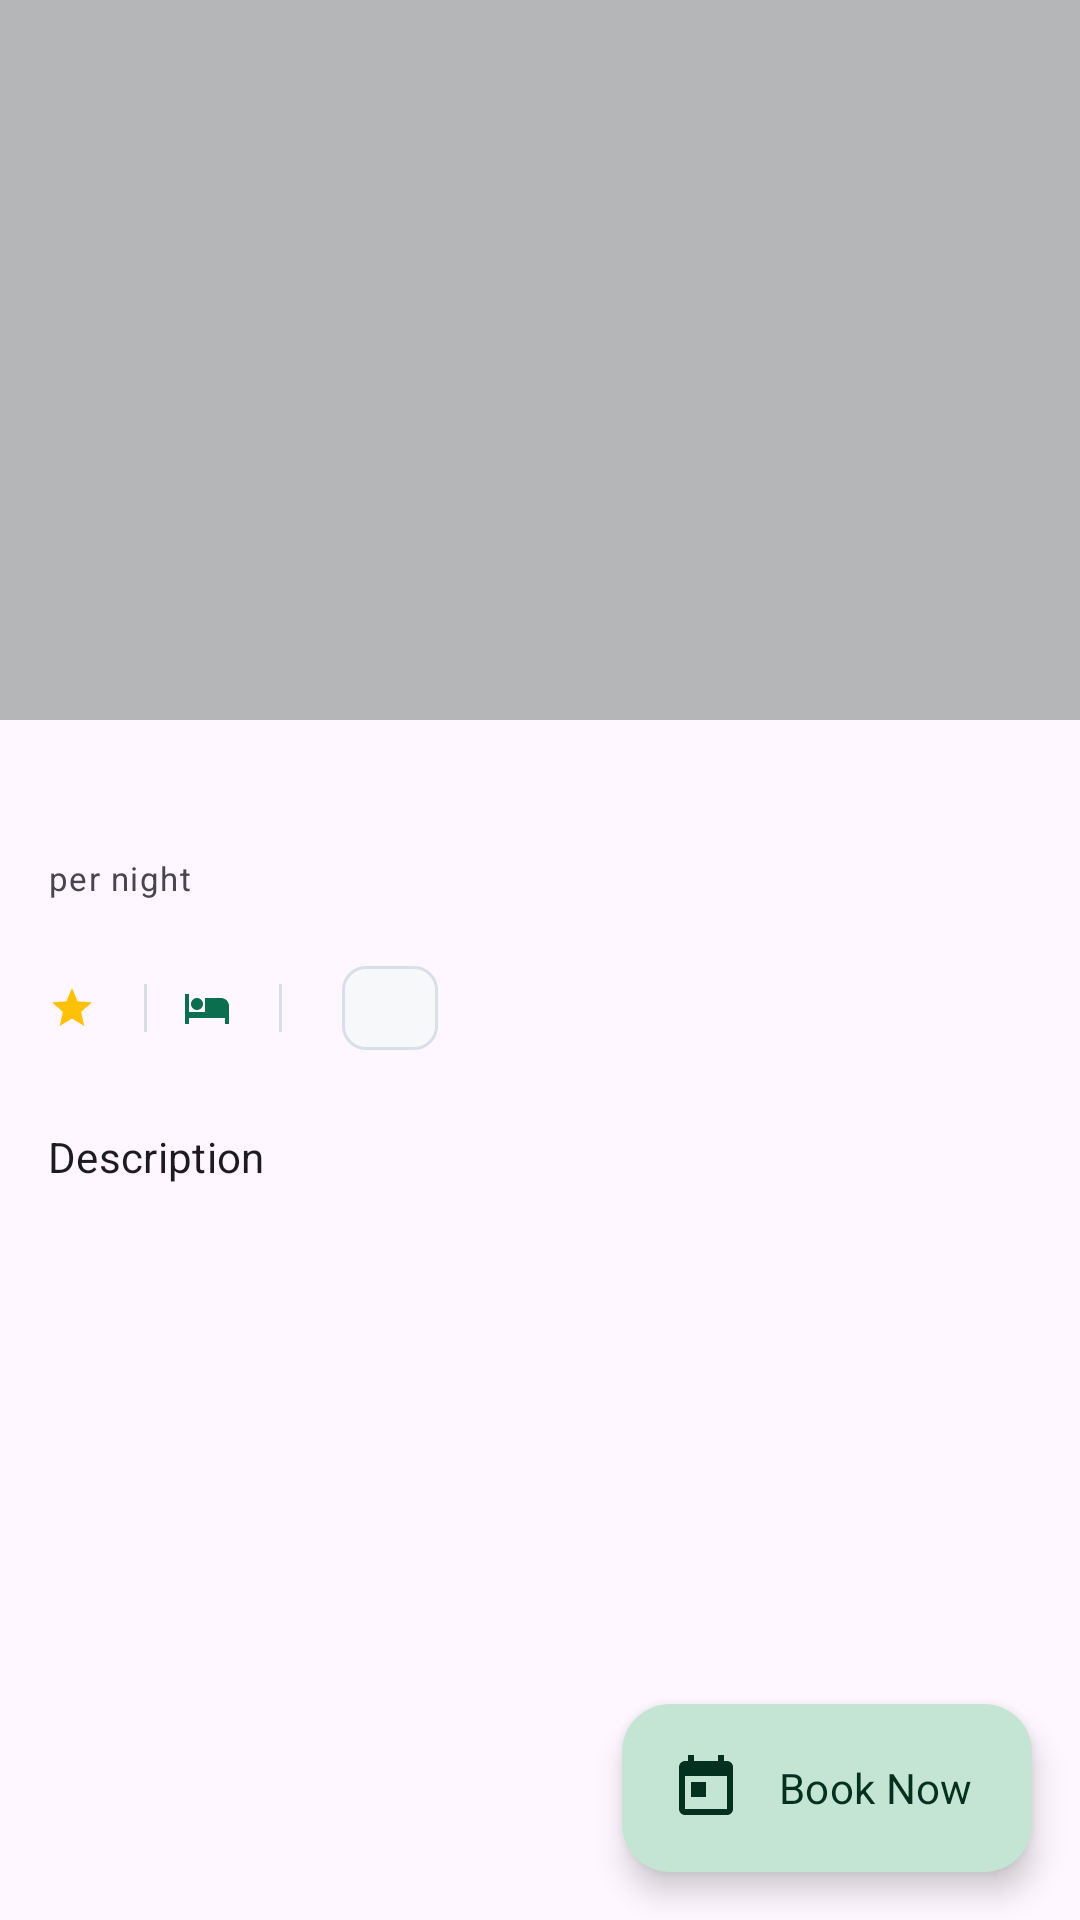

Point at icon controls on the screen. Image size 1080px×1920px, points as (x,y).
bed: (207,1009)
star: (72,1007)
